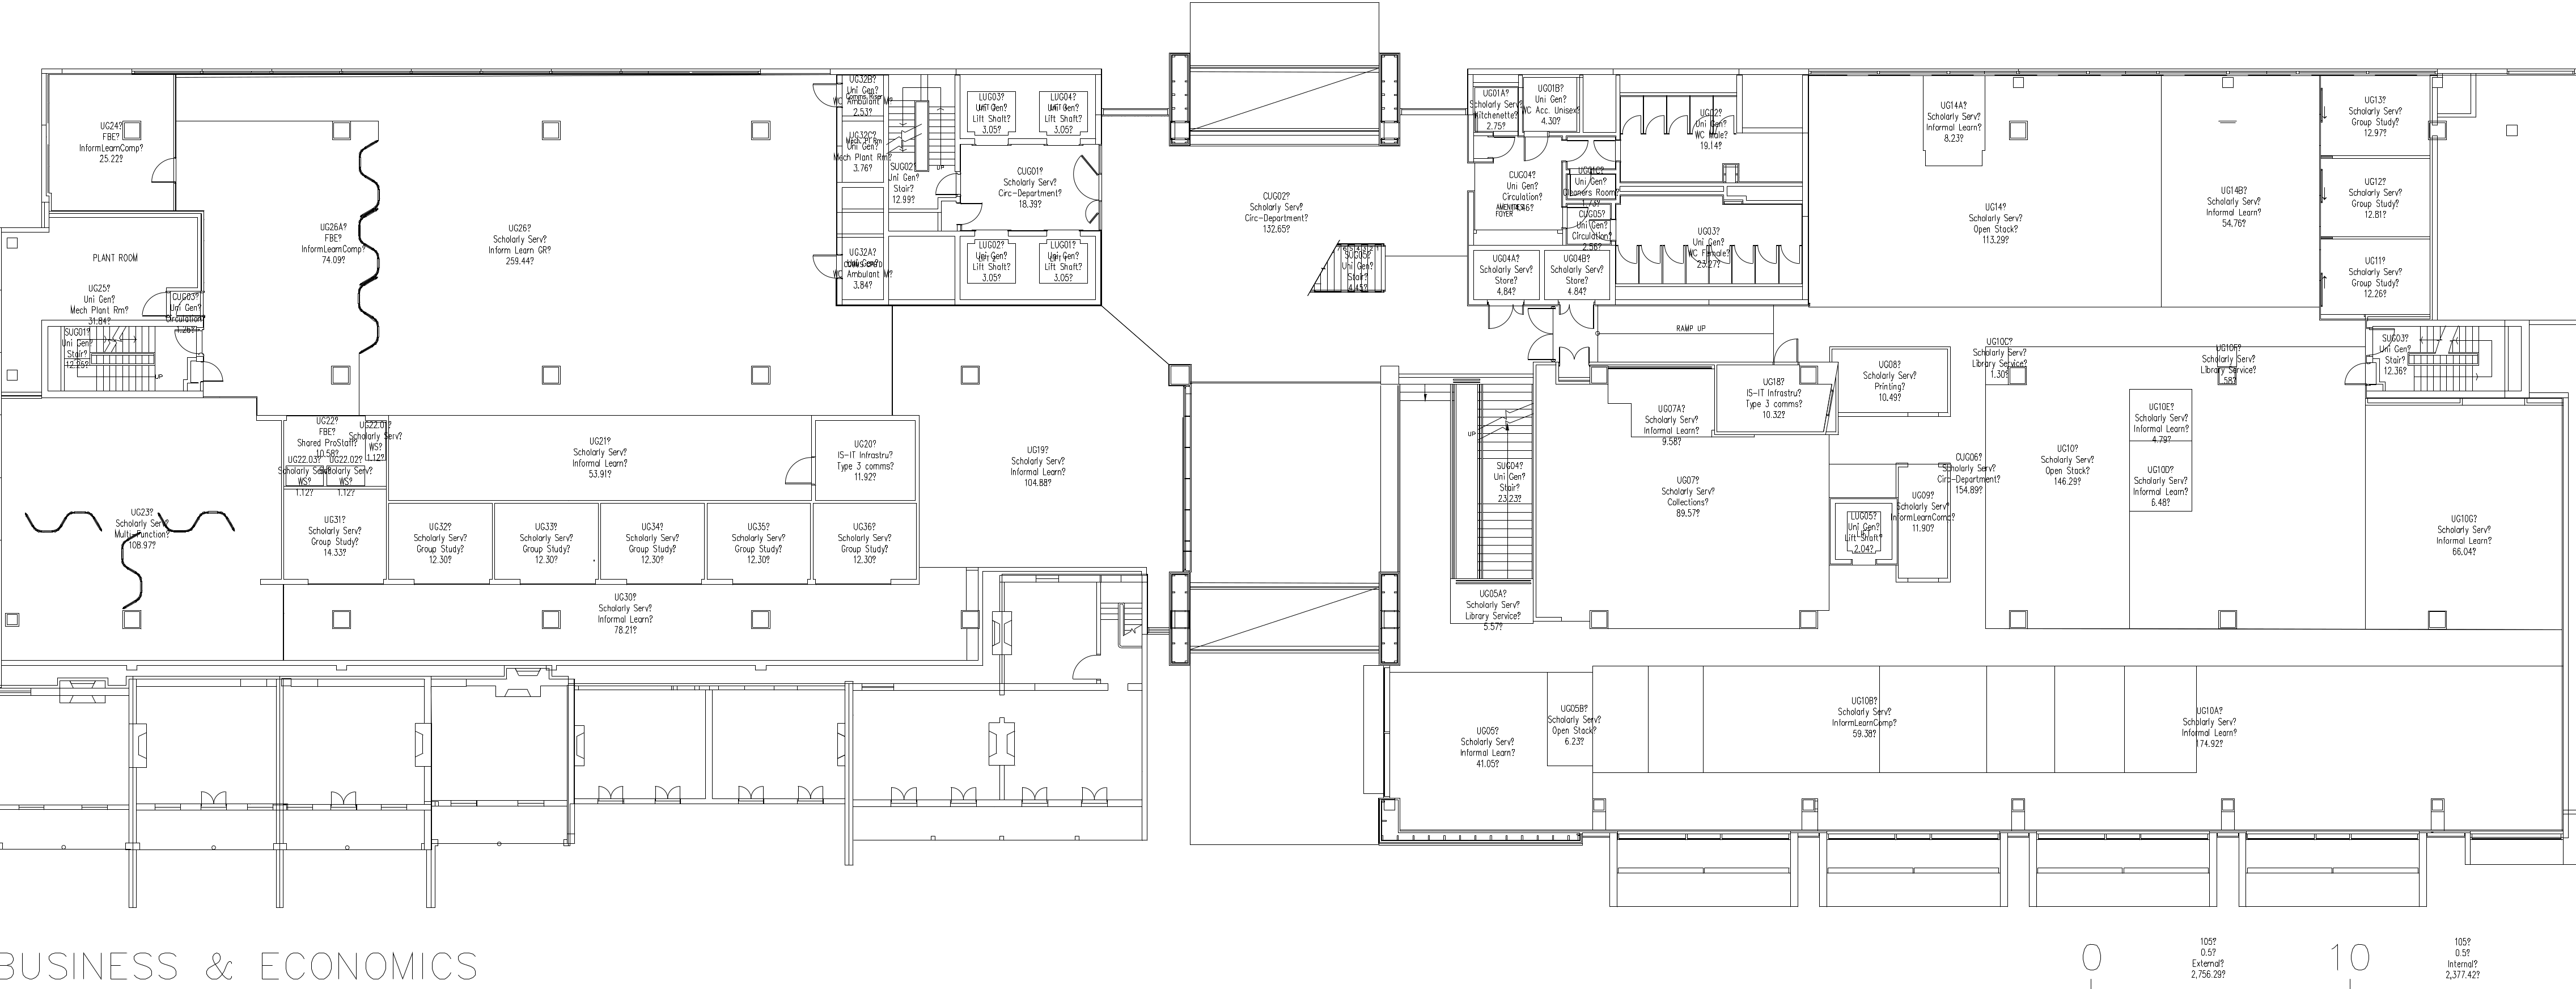door: (176, 330, 223, 389), (1074, 154, 1099, 222), (1528, 307, 1553, 361), (1564, 140, 1620, 161), (1487, 302, 1523, 330), (1559, 302, 1595, 329), (785, 455, 815, 483), (143, 291, 171, 317), (812, 84, 843, 107), (810, 255, 839, 278), (1557, 347, 1589, 368), (1073, 654, 1099, 678), (176, 292, 202, 315), (936, 171, 961, 194), (1525, 136, 1548, 159), (1732, 243, 1755, 266), (2346, 363, 2367, 384), (1492, 136, 1513, 158), (1668, 115, 1689, 136), (1715, 115, 1737, 136), (1664, 243, 1684, 266), (1781, 245, 1804, 264), (1690, 115, 1714, 135), (959, 204, 982, 223), (1592, 220, 1613, 240), (1640, 246, 1661, 266), (1709, 245, 1730, 264), (1758, 243, 1778, 264), (1645, 115, 1666, 135), (1615, 246, 1638, 264), (1621, 115, 1641, 135), (1567, 209, 1589, 227), (1689, 245, 1707, 266)
room: (1986, 347, 2366, 629), (1809, 77, 2162, 306), (13, 404, 283, 657), (2366, 406, 2563, 629), (2162, 77, 2318, 306), (389, 416, 812, 499), (853, 688, 1143, 802), (2, 212, 204, 327), (1620, 76, 1804, 184), (283, 687, 430, 808), (48, 76, 176, 210), (140, 687, 278, 810), (1617, 197, 1802, 286), (432, 683, 568, 802), (575, 685, 706, 802), (713, 688, 844, 800), (961, 145, 1099, 233), (1004, 580, 1099, 683), (286, 488, 386, 583), (812, 416, 918, 503), (2320, 237, 2430, 319), (2321, 77, 2431, 158), (2320, 161, 2431, 237), (495, 504, 600, 583), (601, 504, 705, 583), (708, 504, 810, 583), (815, 504, 917, 583), (389, 506, 493, 583), (151, 158, 176, 182)
